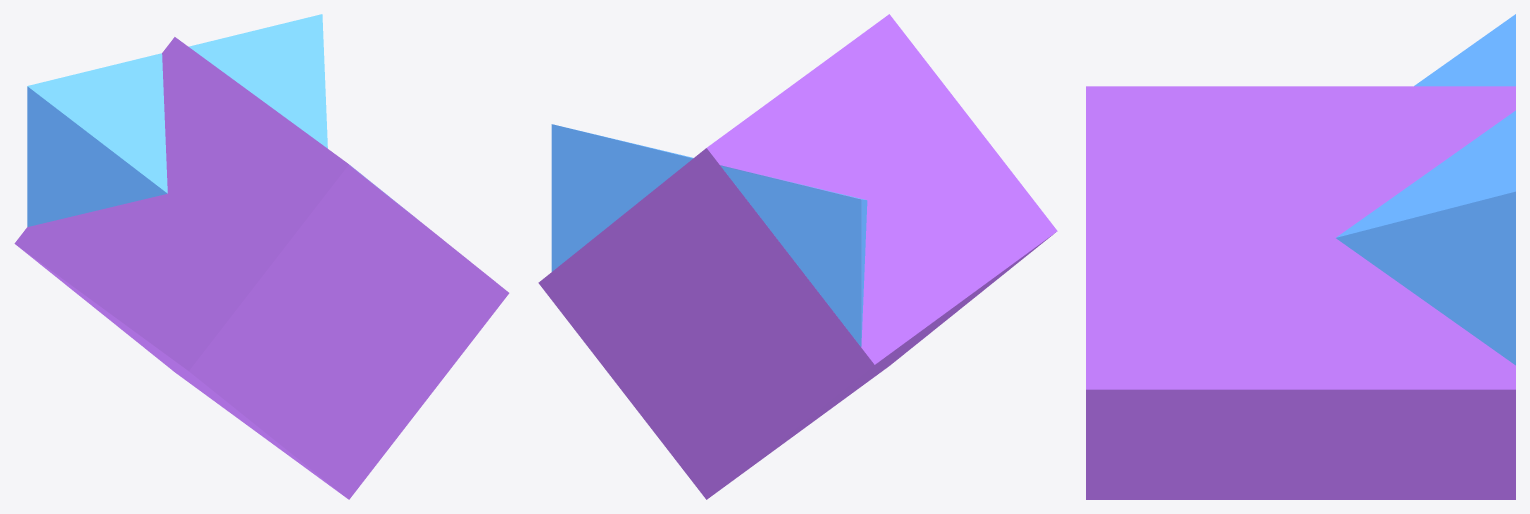
File: portraitKeeper_hand_left.glb
The picture shows the model from 3 angles, left to right: view 1: azimuth 30°, elevation 25°; view 2: azimuth 150°, elevation 25°; view 3: azimuth 270°, elevation 25°; orthographic projection. The views are drawn at different scales.
Visible parts, largest first — view 1: portraitKeeper_hand_left; view 2: portraitKeeper_hand_left; view 3: portraitKeeper_hand_left.
Part boxes in pixels (x1,y1,x2,y2): portraitKeeper_hand_left: (14,14,509,499); portraitKeeper_hand_left: (538,14,1057,499); portraitKeeper_hand_left: (1086,14,1515,499).
Size of the model in its own units: 0.8673 by 0.8673 by 0.8167.
Materials: 1 (1 with a texture image).
